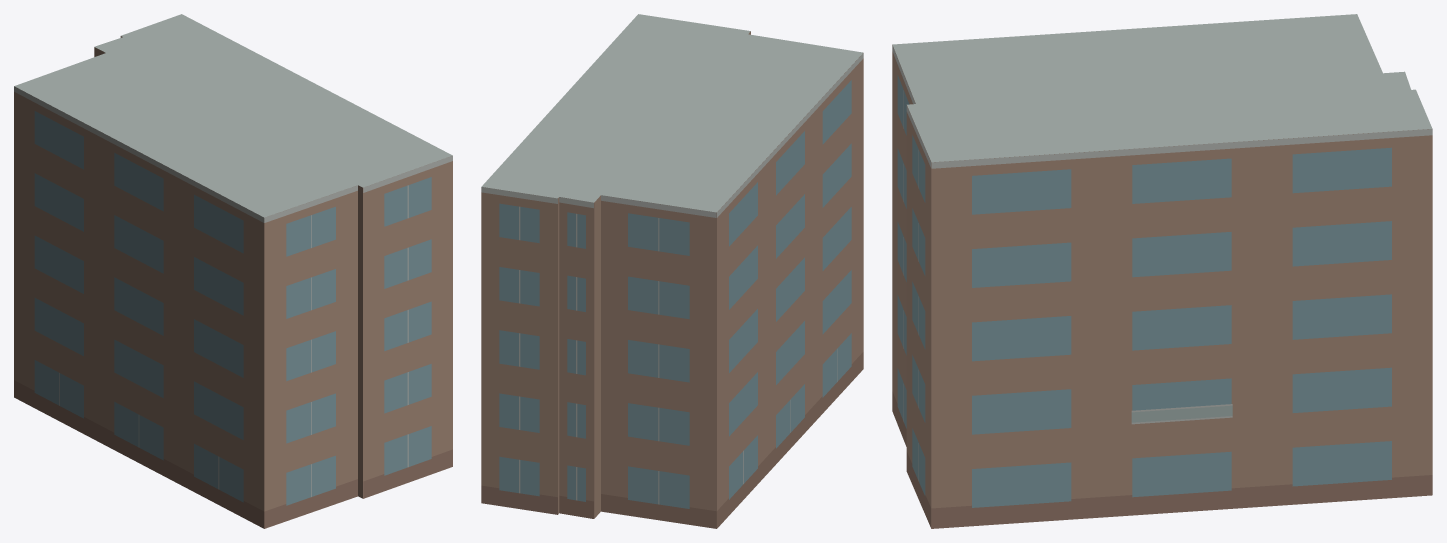
The model's file is survey-upis-32746382.glb.
3 renders of one model, left to right at view 1: azimuth 30°, elevation 25°; view 2: azimuth 150°, elevation 25°; view 3: azimuth 270°, elevation 25°, orthographic. The views are drawn at different scales.
Visible parts, largest first — view 1: survey-upis-32746382.tmp; view 2: survey-upis-32746382.tmp; view 3: survey-upis-32746382.tmp.
Boxes of the visible parts, x1=… form: survey-upis-32746382.tmp: x1=14, y1=14, x2=452, y2=528; survey-upis-32746382.tmp: x1=481, y1=14, x2=863, y2=528; survey-upis-32746382.tmp: x1=892, y1=14, x2=1432, y2=528.
Size of the model in its own units: 11.98 by 13.8 by 18.44.
